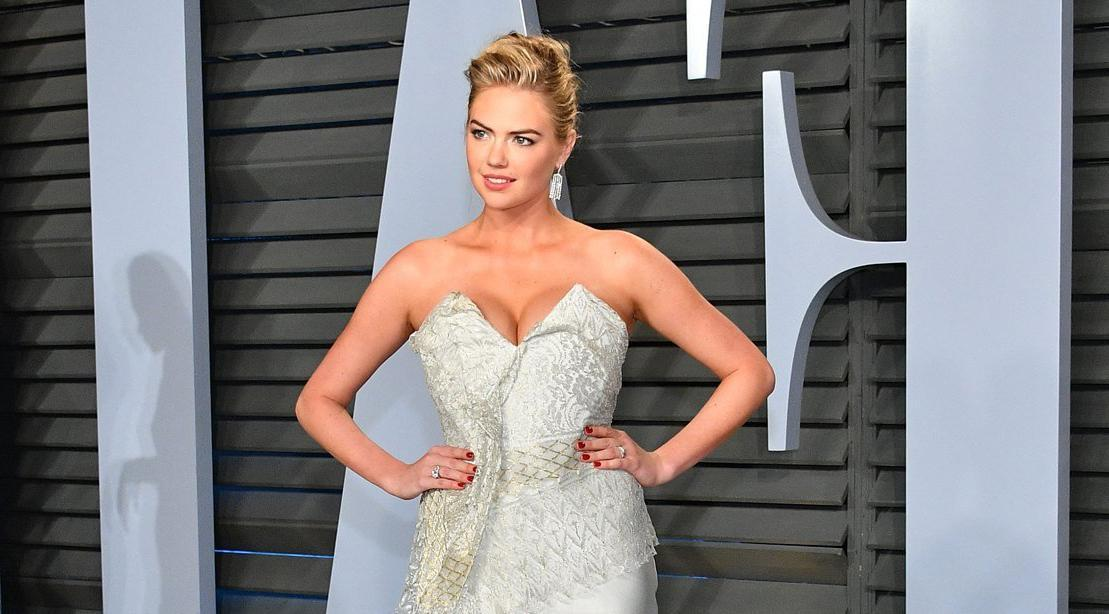Sober: (464, 89, 556, 202)
